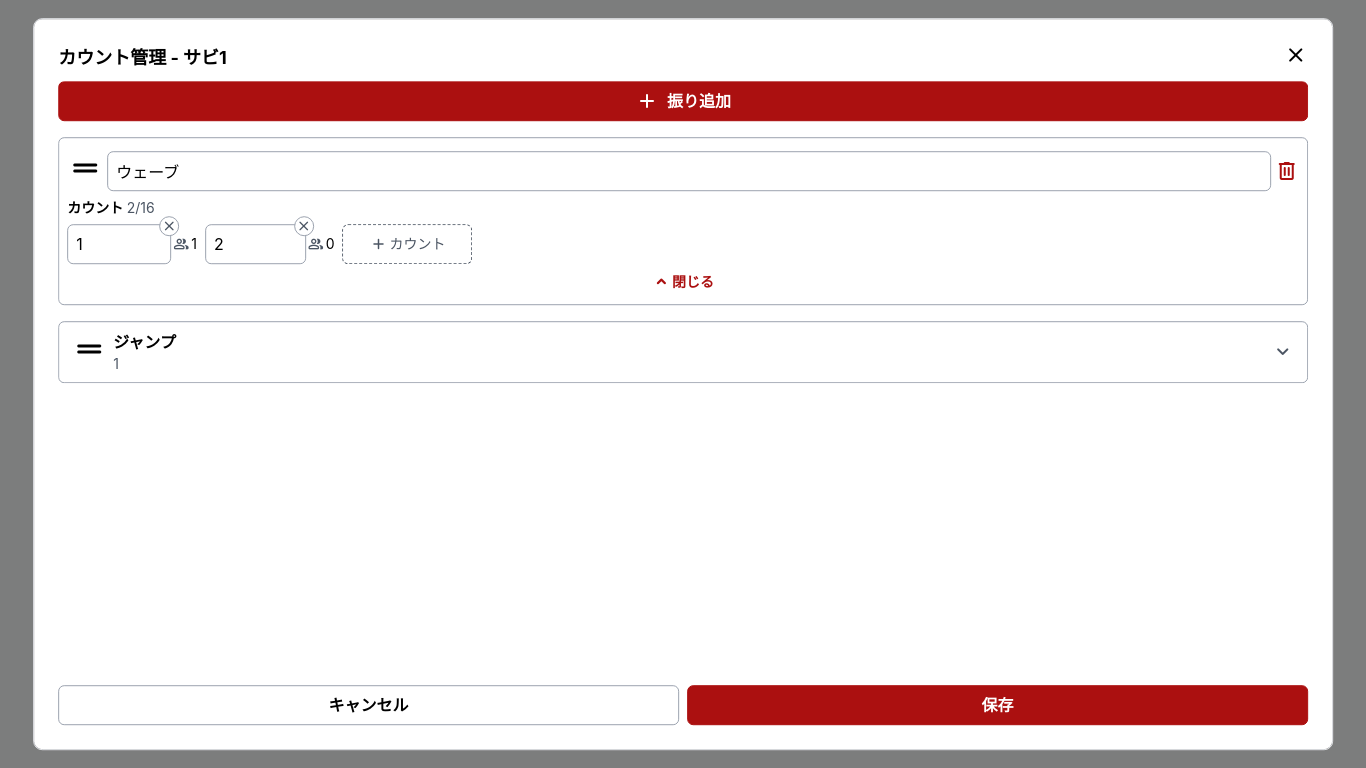
Test case: ActionManagerDialog deleting › opens one action at a time, starting with the first
Expected: the 1st field showing "ウェーブ" is shown, [107,151,1271,191]
Click the button "ジャンプ 1" at (145, 342), box [113,330,1295,374]
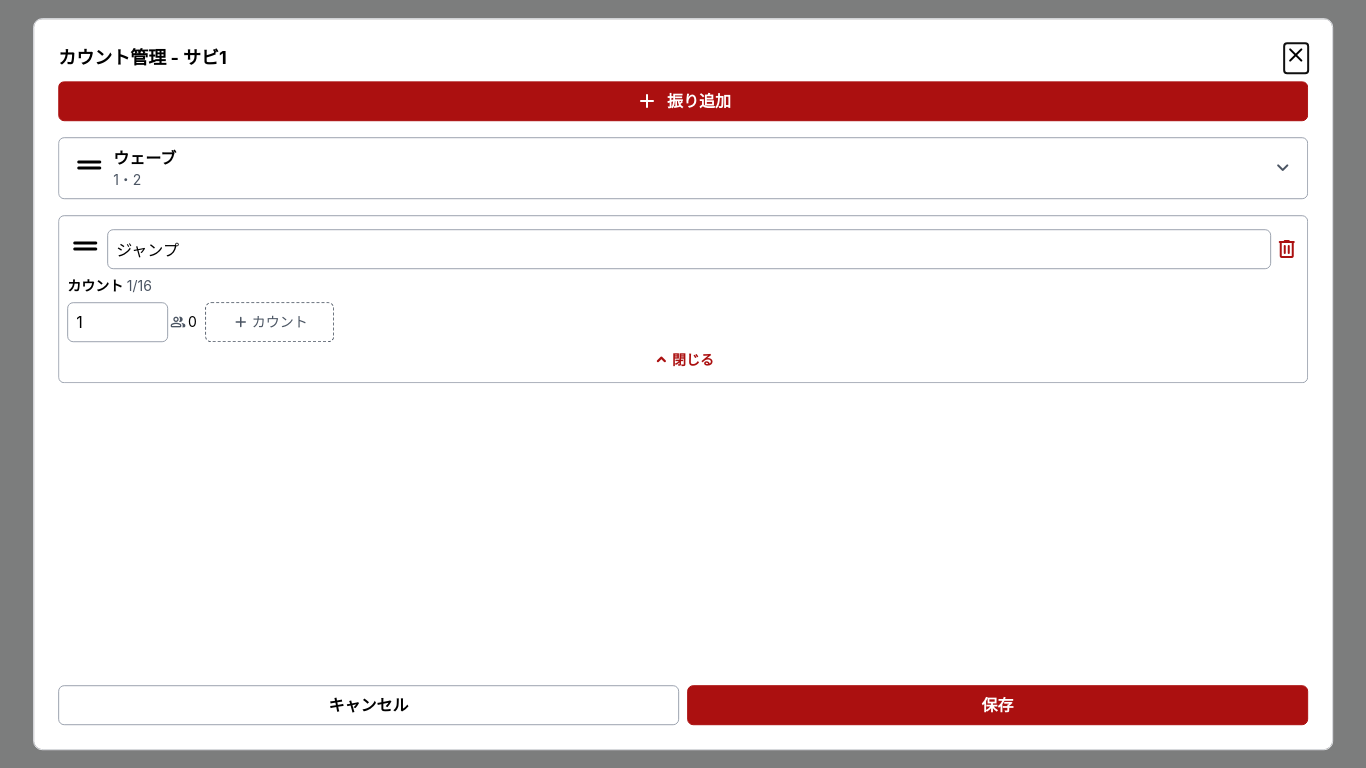
Expected: the 1st field showing "ジャンプ" is shown, [107,229,1271,269]
